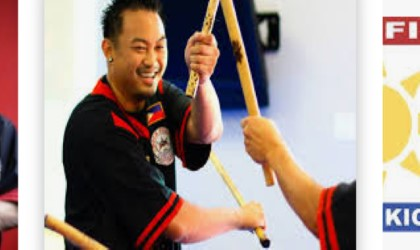baston_e: (214, 0, 272, 115), (180, 5, 218, 87), (205, 150, 249, 217)
baston_v: (180, 78, 200, 101), (37, 206, 52, 232), (253, 233, 275, 250), (260, 175, 276, 190)
